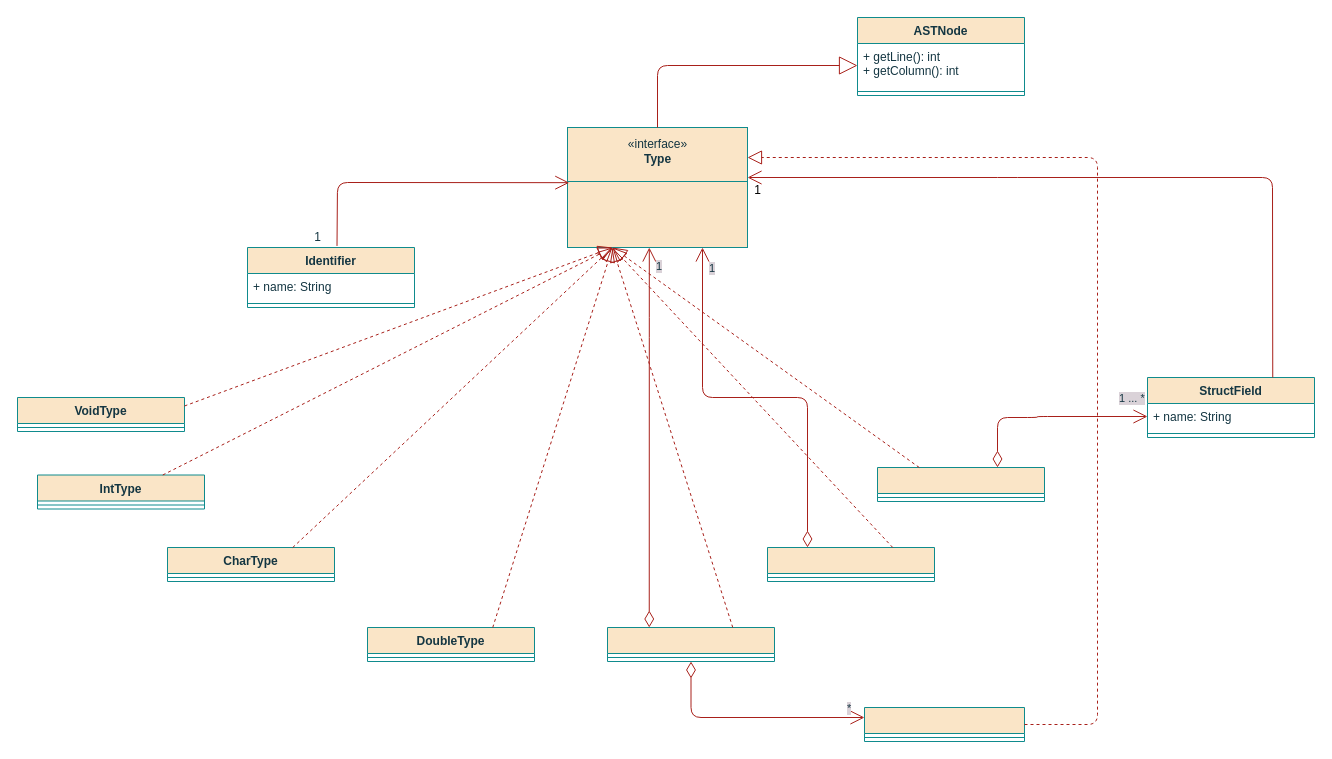
This 1332x759 diagram has some shape labels left out. Each missing label, with the centre of its shape:
"ArrayType" goes at point (850, 564).
"FunctionType" goes at point (690, 644).
"Struct" goes at point (960, 484).
"VarDefinition" goes at point (944, 724).
